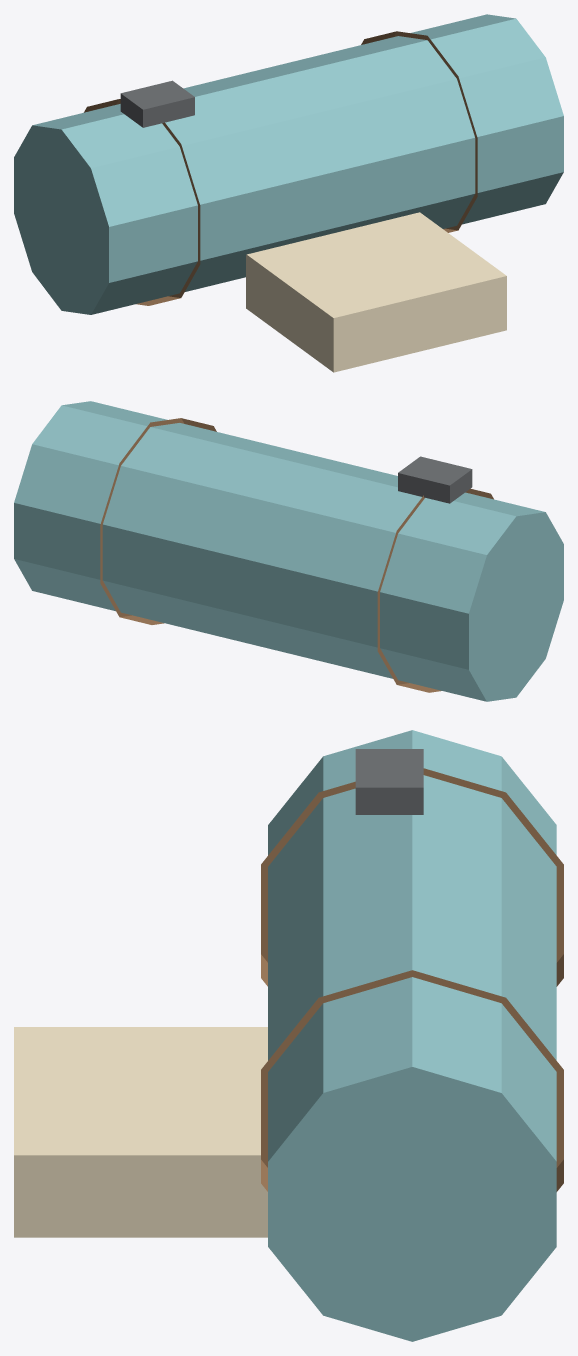
File: frontier-canvas-bedroll__240.glb
The picture shows the model from 3 angles, top to bottom: view 1: azimuth 30°, elevation 25°; view 2: azimuth 150°, elevation 25°; view 3: azimuth 270°, elevation 25°; orthographic projection. The views are drawn at different scales.
Parts seen in each view (by area): view 1: frontier-post-canvas-bedroll; view 2: frontier-post-canvas-bedroll; view 3: frontier-post-canvas-bedroll.
Part boxes in pixels (box(x1,y1,x2,y2)): frontier-post-canvas-bedroll: box(14, 14, 563, 372); frontier-post-canvas-bedroll: box(14, 401, 563, 701); frontier-post-canvas-bedroll: box(14, 730, 563, 1341).
Size of the model in its own units: 1.05 by 0.45 by 0.7247.
